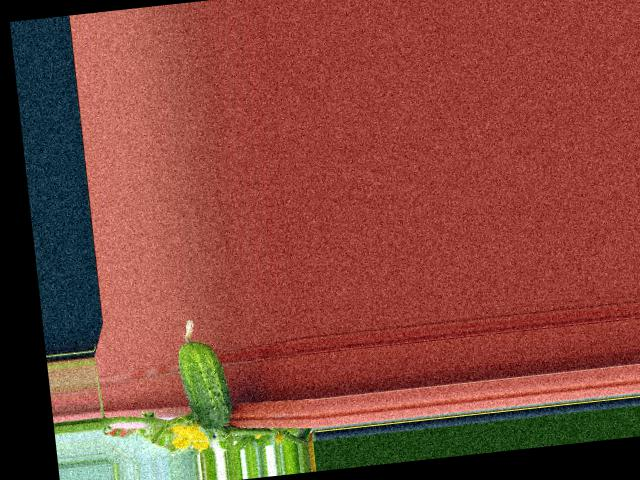cucumber: (173, 315, 233, 432)
